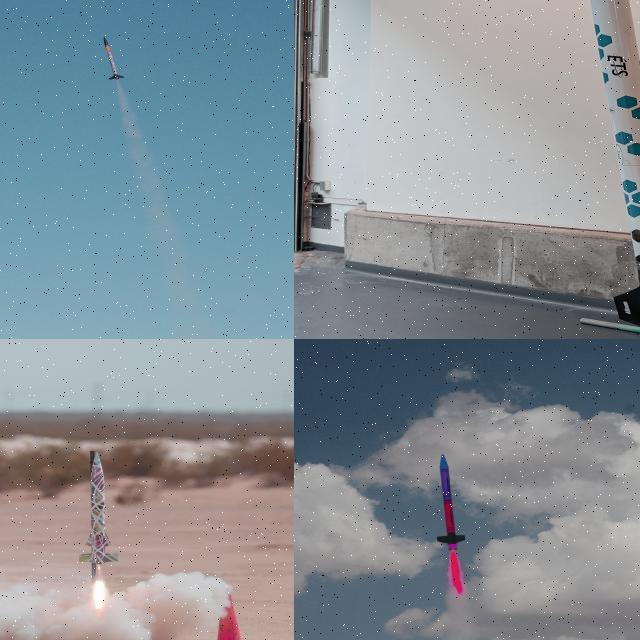Rocket: (590, 0, 640, 326), (78, 450, 119, 566), (436, 454, 466, 550), (102, 36, 126, 81)
